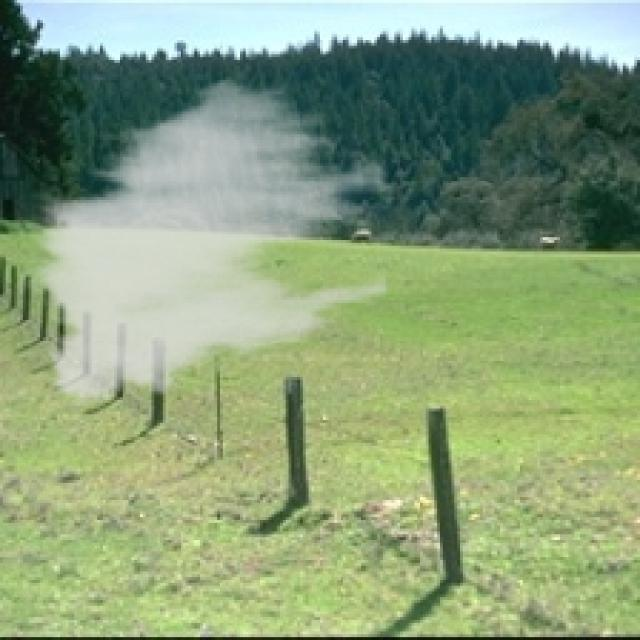Smoke: (20, 68, 389, 420)
